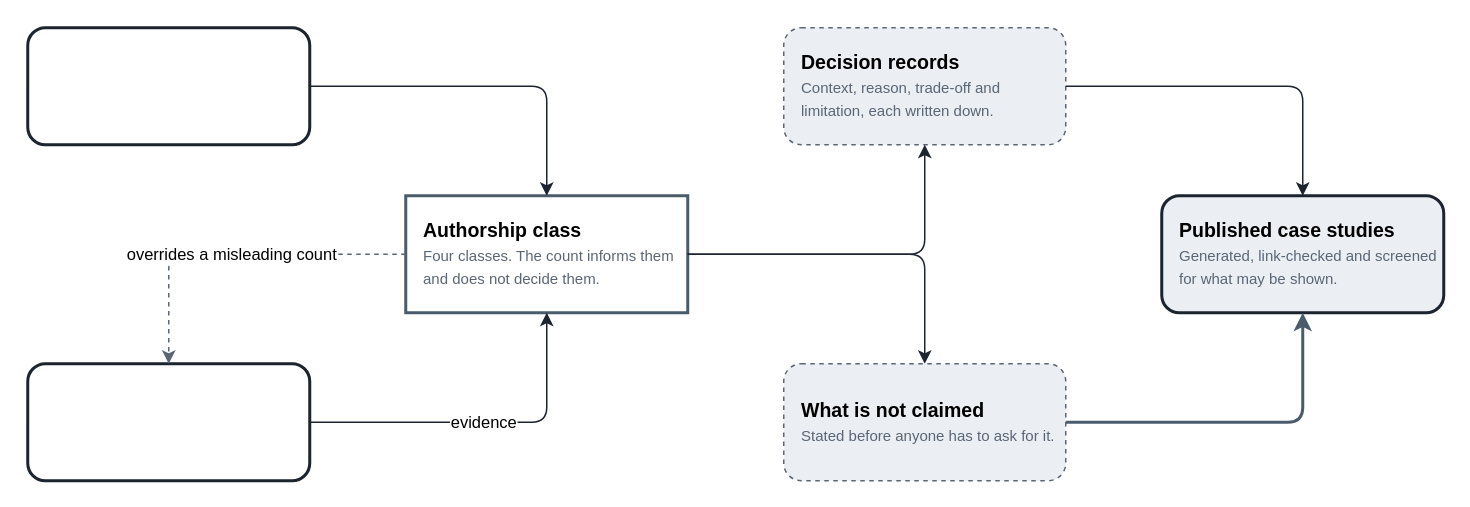
The diagram is 1470 pixels wide and 507 high, and some of its shapes have lost their labels. The shapes that lost their labels are listed below. From the top down, each one's box as (x1, y1, x2, y2) in pixels, then its label:
(26, 26, 310, 146): Four workstreams One platform, drawn as the four streams of work across it.
(26, 362, 310, 482): Measured commit share Counted per component rather than remembered.
